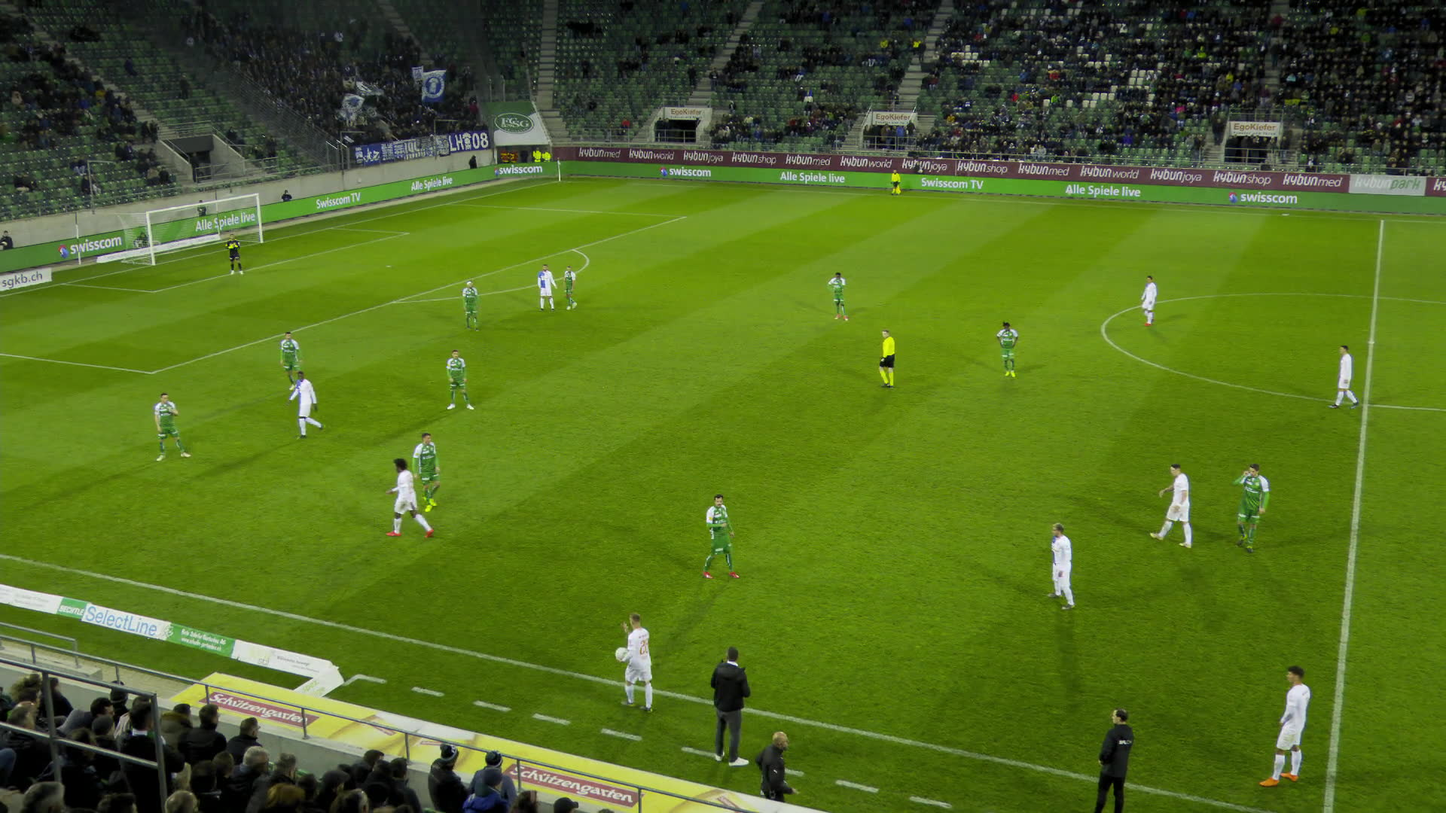ball: (616, 647, 628, 660)
player: (1258, 667, 1308, 787), (618, 611, 653, 712), (1152, 464, 1192, 547), (389, 457, 430, 537), (704, 494, 740, 580), (1233, 462, 1268, 550), (153, 392, 189, 461), (413, 433, 443, 511), (1045, 522, 1072, 607), (289, 370, 322, 439), (1327, 346, 1356, 407), (446, 349, 474, 409), (280, 331, 304, 391), (996, 321, 1017, 376), (827, 272, 847, 321), (537, 264, 557, 312), (1139, 276, 1156, 326), (462, 281, 478, 331), (224, 234, 243, 275), (563, 265, 577, 309)
referee: (877, 330, 896, 388), (890, 169, 900, 194)
